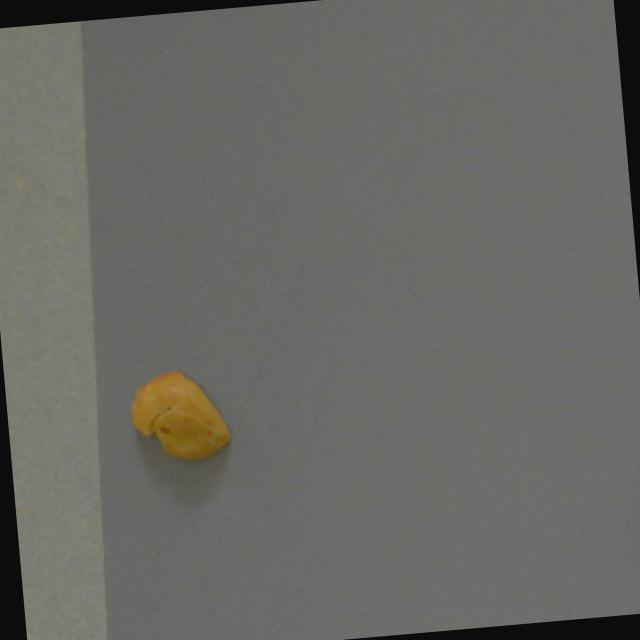cuerpos_extranos: (118, 352, 239, 472)
